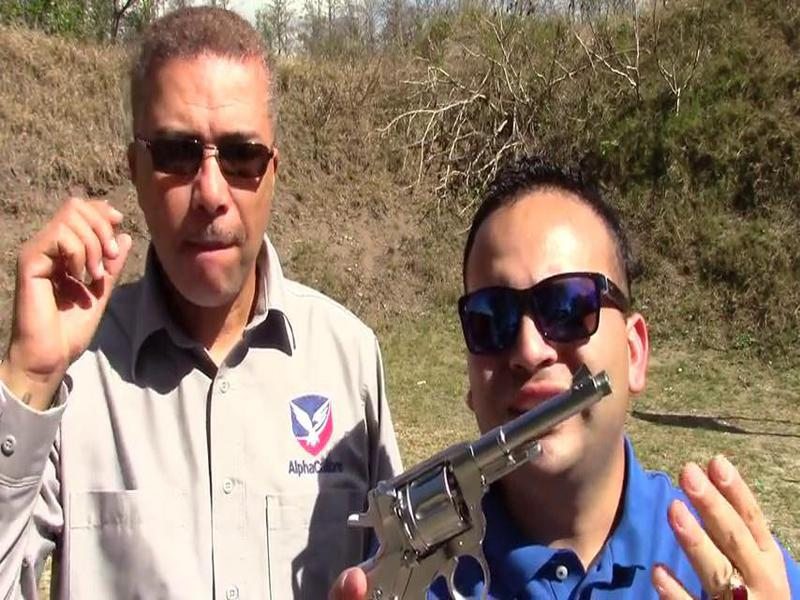Revolver: (341, 362, 622, 600)
